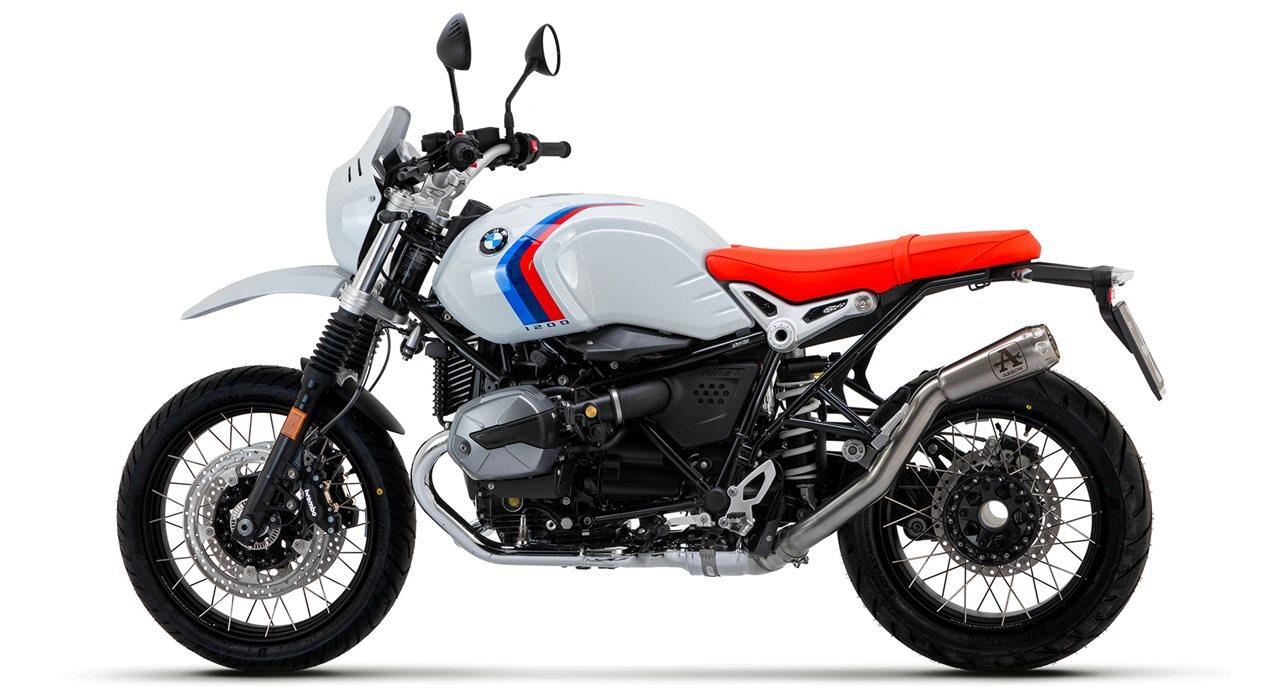engine-chasis: (447, 321, 785, 555), (775, 348, 833, 417), (778, 427, 819, 505), (793, 397, 821, 422)
exhaust: (410, 323, 1061, 577)
frontside: (180, 104, 519, 547)
handlebar: (372, 11, 572, 217)
motorbike: (117, 12, 1167, 672)
rearside: (727, 262, 1168, 532)
seat: (705, 228, 1042, 304)
tank: (432, 193, 756, 344)
wheel: (837, 370, 1153, 674), (115, 365, 417, 676), (300, 323, 383, 490), (368, 328, 391, 393)
